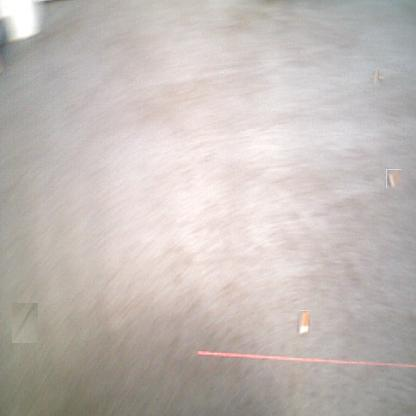dirty: (298, 310, 310, 335), (385, 170, 402, 187), (371, 71, 382, 83)
mark: (12, 303, 38, 343)
